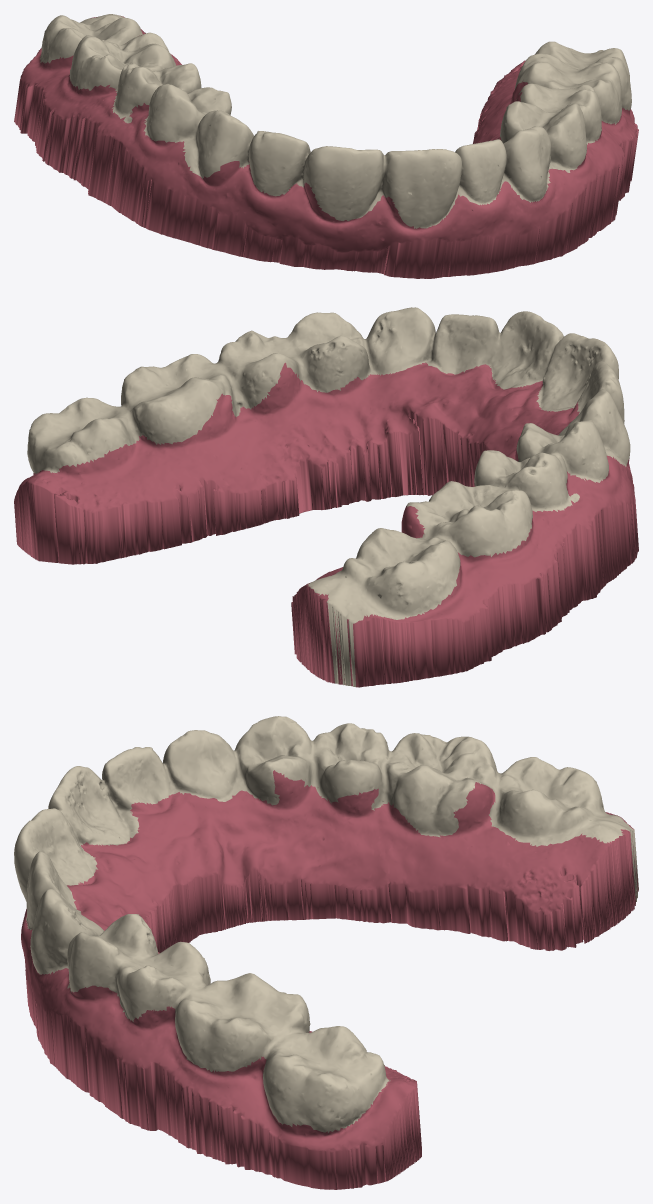
File: dental-arch.glb
The picture shows the model from 3 angles, top to bottom: view 1: azimuth 30°, elevation 25°; view 2: azimuth 150°, elevation 25°; view 3: azimuth 270°, elevation 25°; orthographic projection. The views are drawn at different scales.
Visible parts, largest first — view 1: NIH_Dental_Arch; view 2: NIH_Dental_Arch; view 3: NIH_Dental_Arch.
Part boxes in pixels (left/top/right/bottom): NIH_Dental_Arch: left=14, top=14, right=638, bottom=278; NIH_Dental_Arch: left=14, top=307, right=638, bottom=687; NIH_Dental_Arch: left=14, top=716, right=638, bottom=1189.
Size of the model in its own units: 4.98 by 1.71 by 4.55.
